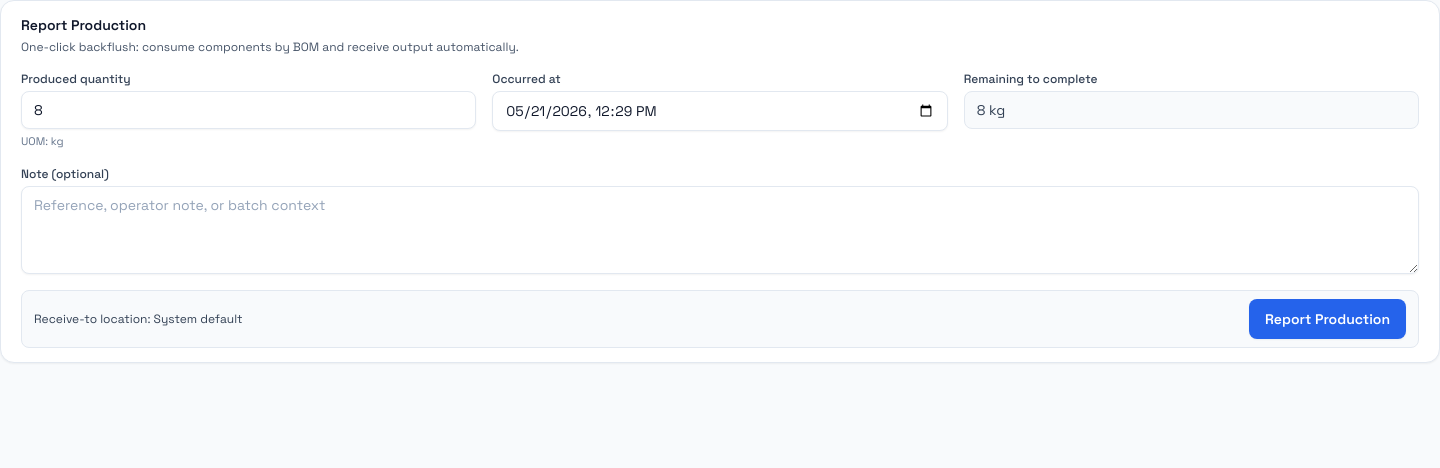
Scenario: ReportProductionForm › renders error alert on failed submission
Click the button "Report Production" at (1328, 318), box [1249,298,1406,338]
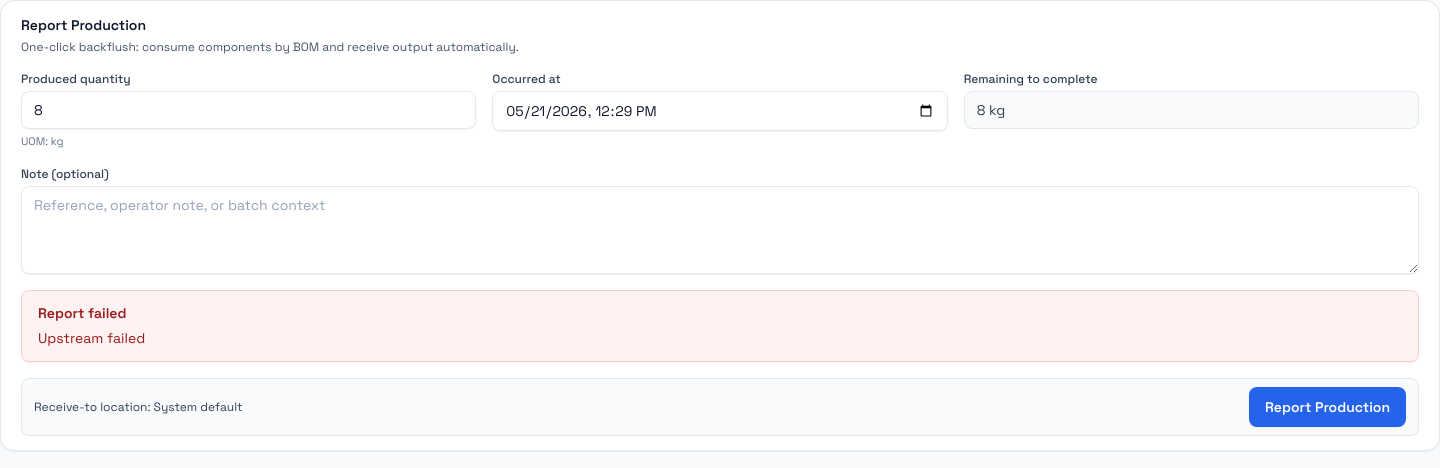
Check: the text "Report failed" is shown, box [38,304,126,322]
Check: the text "Upstream failed" is shown, box [38,328,145,346]
